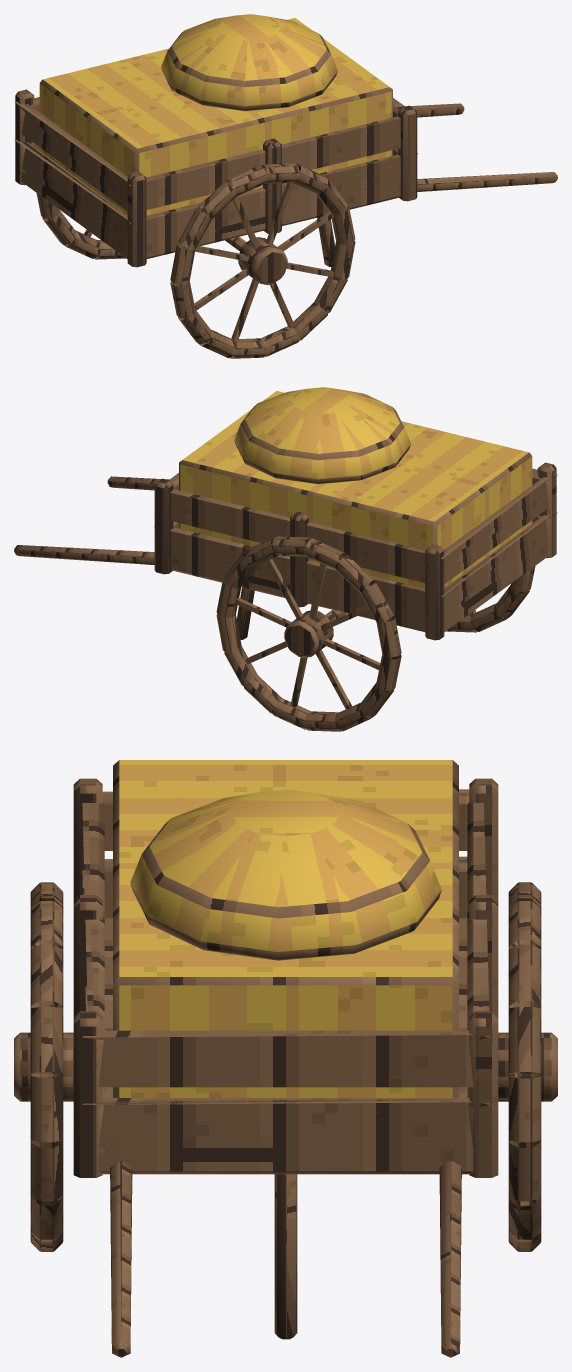
Rendered from handcart_2.glb.
3 renders of one model, top to bottom at view 1: azimuth 30°, elevation 25°; view 2: azimuth 150°, elevation 25°; view 3: azimuth 270°, elevation 25°, orthographic. The views are drawn at different scales.
Parts seen in each view (by area): view 1: handcart_3; view 2: handcart_3; view 3: handcart_3.
Part boxes in pixels (x1=…): handcart_3: x1=14, y1=14, x2=557, y2=358; handcart_3: x1=14, y1=387, x2=557, y2=731; handcart_3: x1=14, y1=760, x2=557, y2=1357.
Bounding box in the file's own units: 2.16 × 1.25 × 1.32.
Materials: 4 (4 with a texture image).
